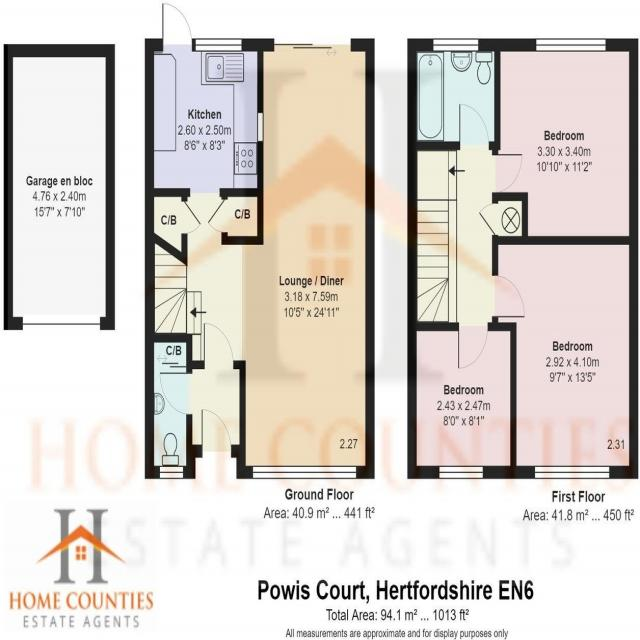DOOR: (491, 273, 526, 320), (457, 321, 489, 370), (161, 2, 193, 51), (203, 321, 235, 369), (159, 371, 193, 416), (201, 409, 232, 458), (458, 103, 490, 150), (492, 153, 523, 194)
ROOM: (490, 236, 639, 481), (492, 38, 639, 245), (144, 2, 264, 198), (407, 321, 517, 480)
WINDOW: (252, 465, 357, 480), (534, 465, 610, 480), (535, 38, 607, 53), (195, 38, 243, 53), (432, 38, 479, 52), (438, 465, 484, 479), (159, 465, 184, 479), (257, 112, 264, 142)
